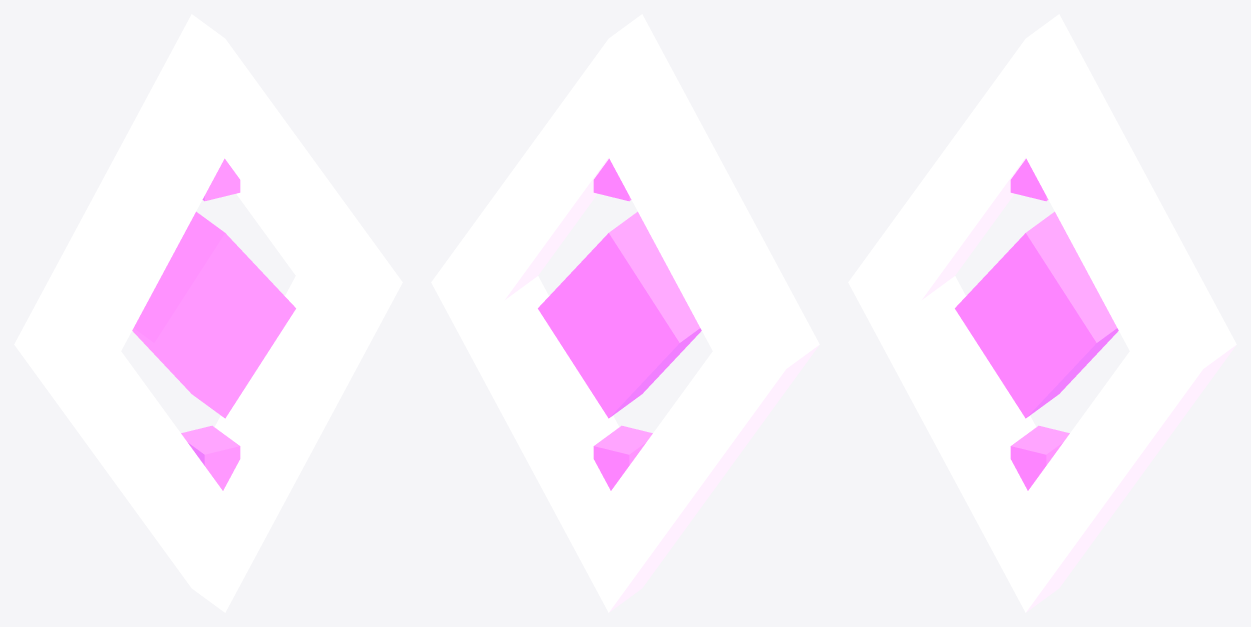
File: curse_glyph.glb
3 renders of one model, left to right at view 1: azimuth 30°, elevation 25°; view 2: azimuth 150°, elevation 25°; view 3: azimuth 330°, elevation 25°, orthographic.
Parts seen in each view (by area): view 1: curse_glyph; view 2: curse_glyph; view 3: curse_glyph.
Boxes of the visible parts, x1=… form: curse_glyph: x1=14, y1=14, x2=402, y2=612; curse_glyph: x1=431, y1=14, x2=819, y2=612; curse_glyph: x1=848, y1=14, x2=1236, y2=612.
Bounding box in the file's own units: 0.22 × 0.34 × 0.036.
